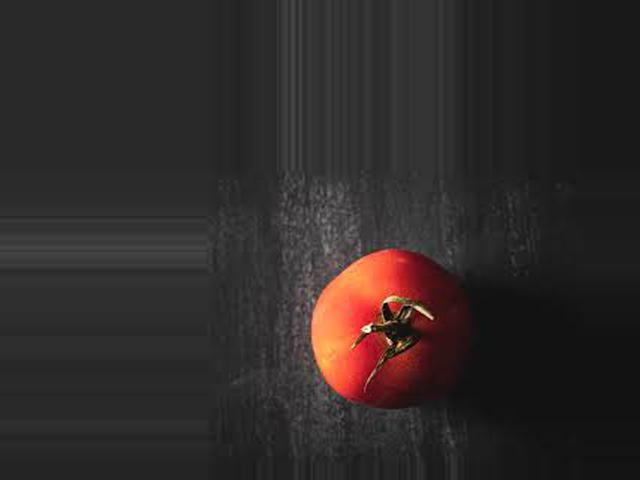tomato: (310, 249, 470, 406)
